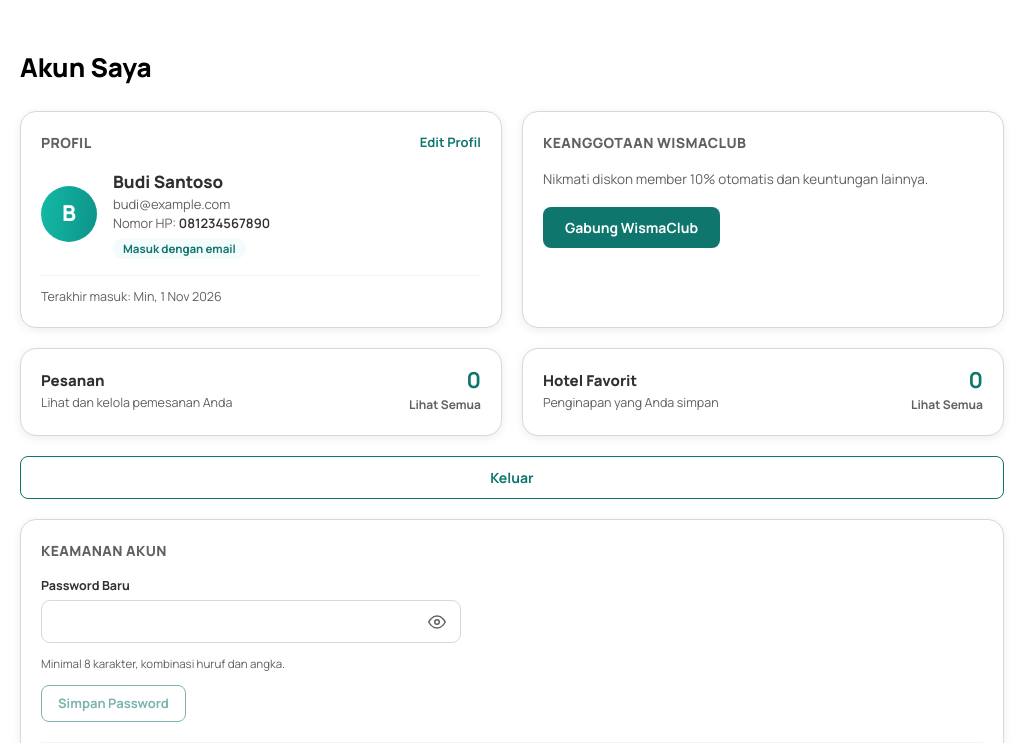
Test: AccountPage › menampilkan profil pengguna dan membuka mode edit profil
Expected: the text "Budi Santoso" is shown, [113,170,223,193]
Expected: the text "081234567890" is shown, [179,214,270,232]
Click the button "Edit Profil".
click(450, 143)  # box [420,133,481,152]
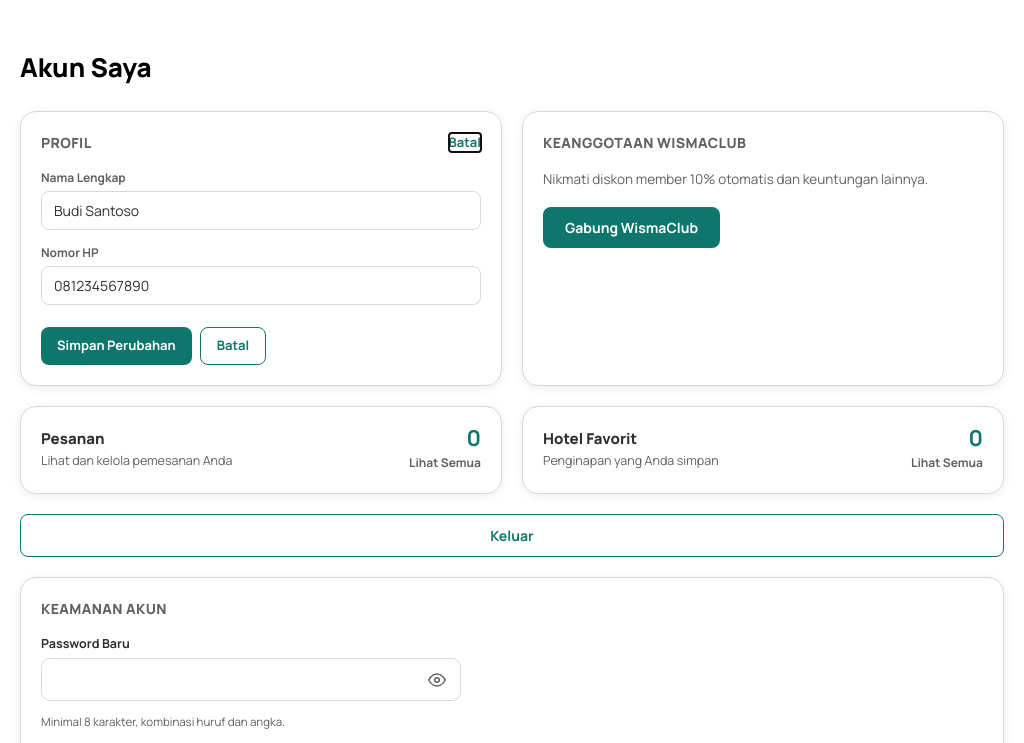
Expected: the field labelled "Nama Lengkap" holds "Budi Santoso"
Expected: the field labelled "Nomor HP" holds "081234567890", [41,266,481,305]
Replace the text in the field labelled "Nama Lengkap" with "Budi Baru" at [261, 210], box [41,191,481,230]
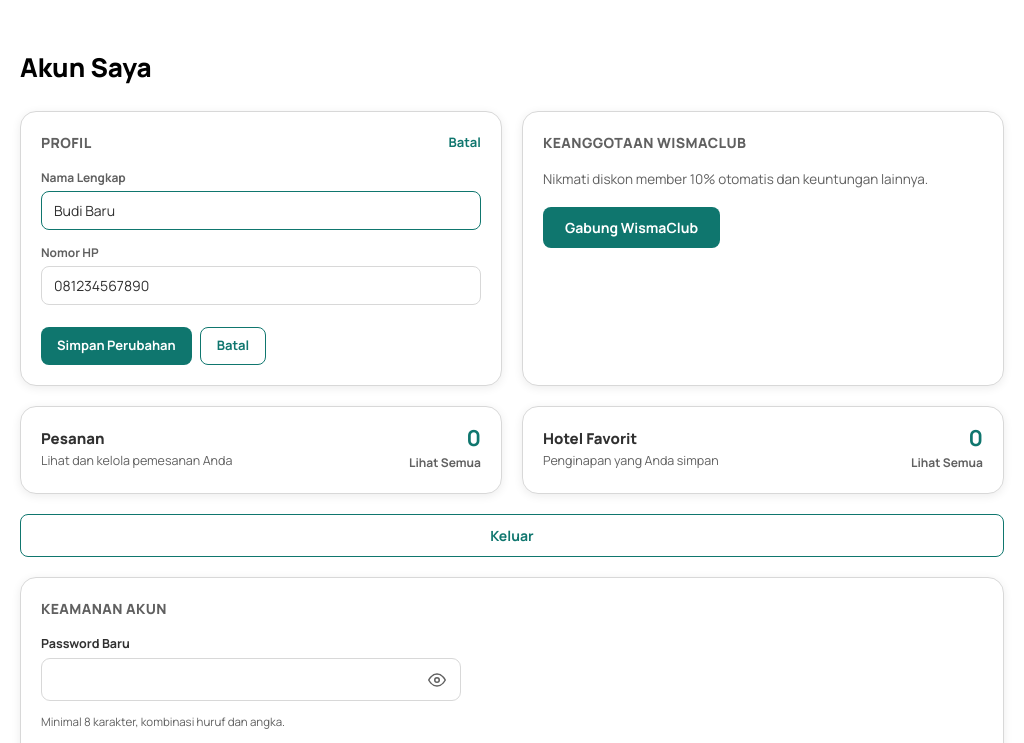
Replace the text in the field labelled "Nomor HP" with "089876543210" at [261, 286], box [41,266,481,305]
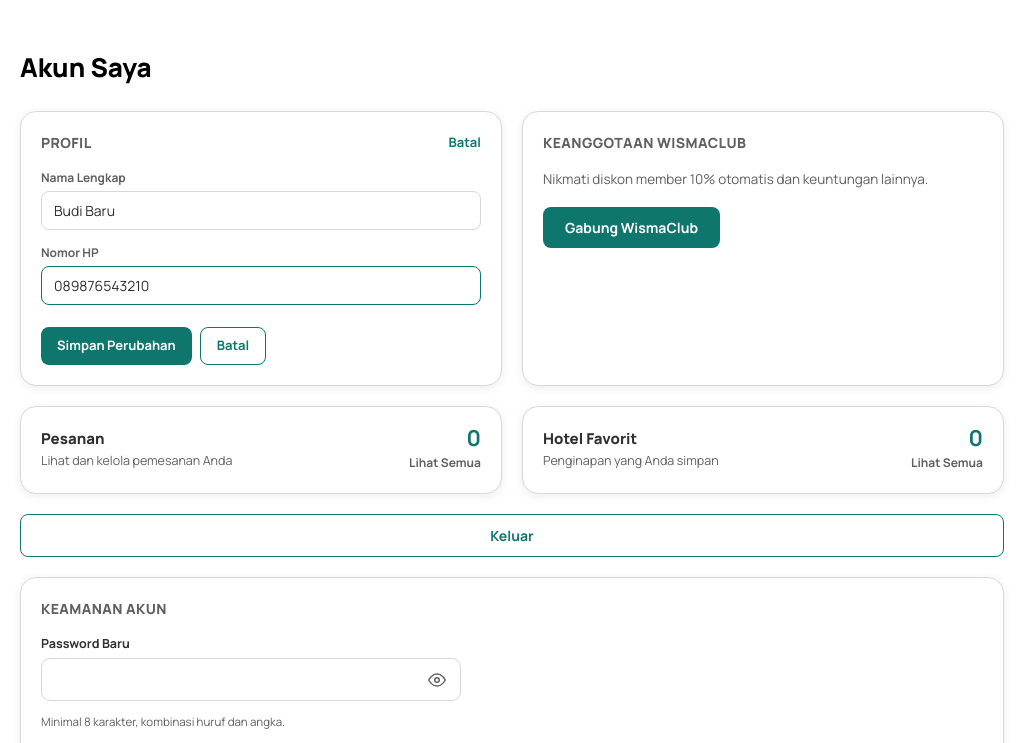
Click the button "Simpan Perubahan".
click(116, 346)  # box [41,327,192,364]
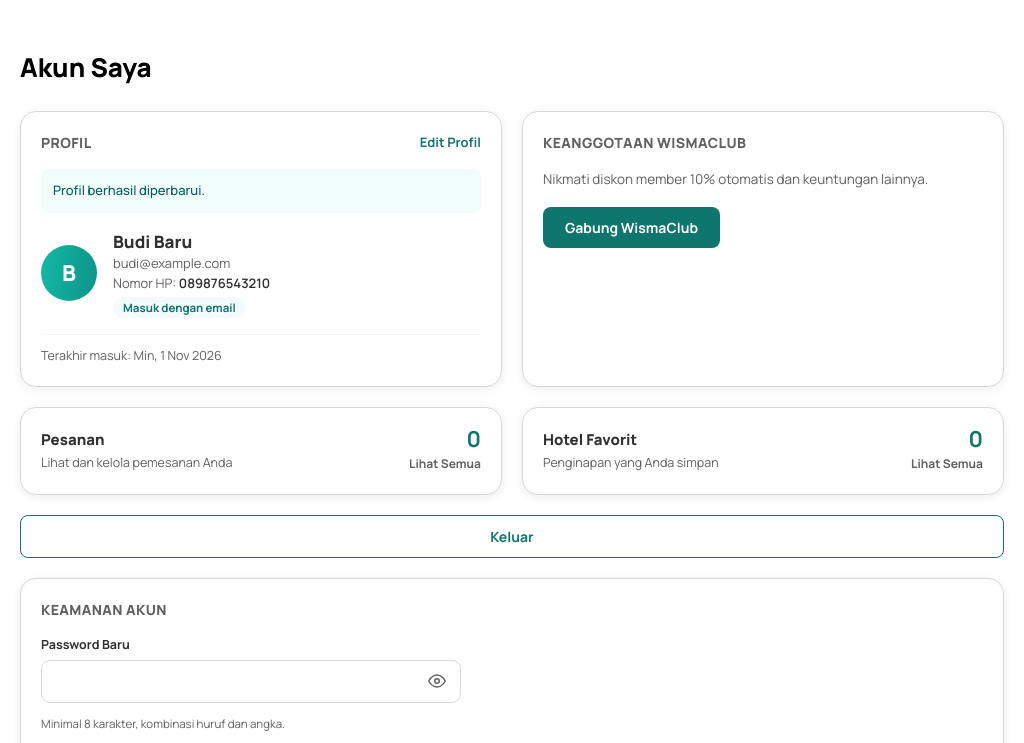
Expected: the text "Profil berhasil diperbarui." is shown, [41,169,481,212]
Expected: the text "Budi Baru" is shown, [113,230,192,252]
Expected: the text "089876543210" is shown, [179,274,270,292]
